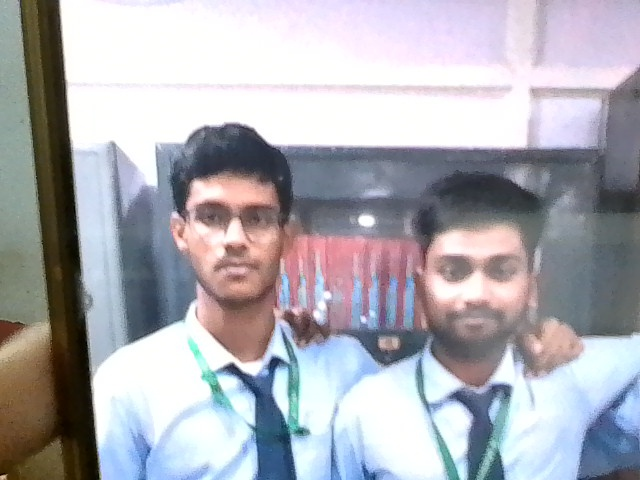real: (173, 138, 294, 309)
